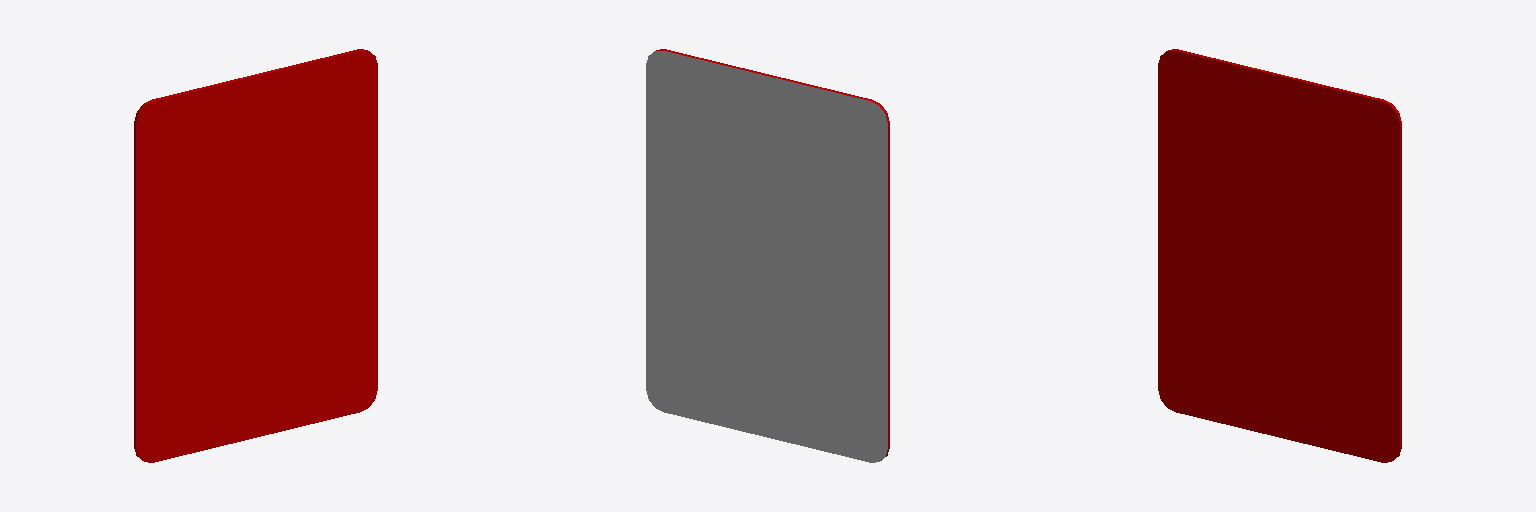
File: carta.obj
3 renders of one model, left to right at view 1: azimuth 30°, elevation 25°; view 2: azimuth 150°, elevation 25°; view 3: azimuth 330°, elevation 25°, orthographic.
Parts seen in each view (by area): view 1: Plano; view 2: Plano; view 3: Plano.
Part boxes in pixels (bbox=[...]): Plano: bbox=[134, 49, 377, 462]; Plano: bbox=[646, 49, 889, 462]; Plano: bbox=[1158, 49, 1401, 462].
Size of the model in its own units: 1.4 by 2 by 0.02.